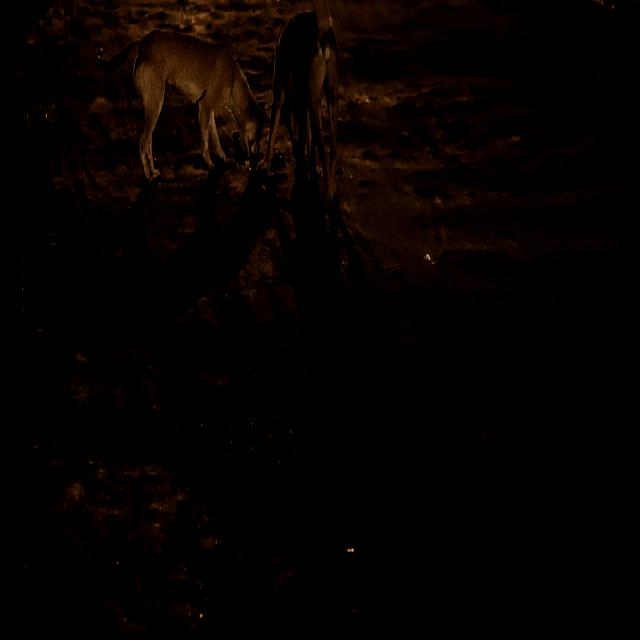Dog: (109, 12, 369, 221)
